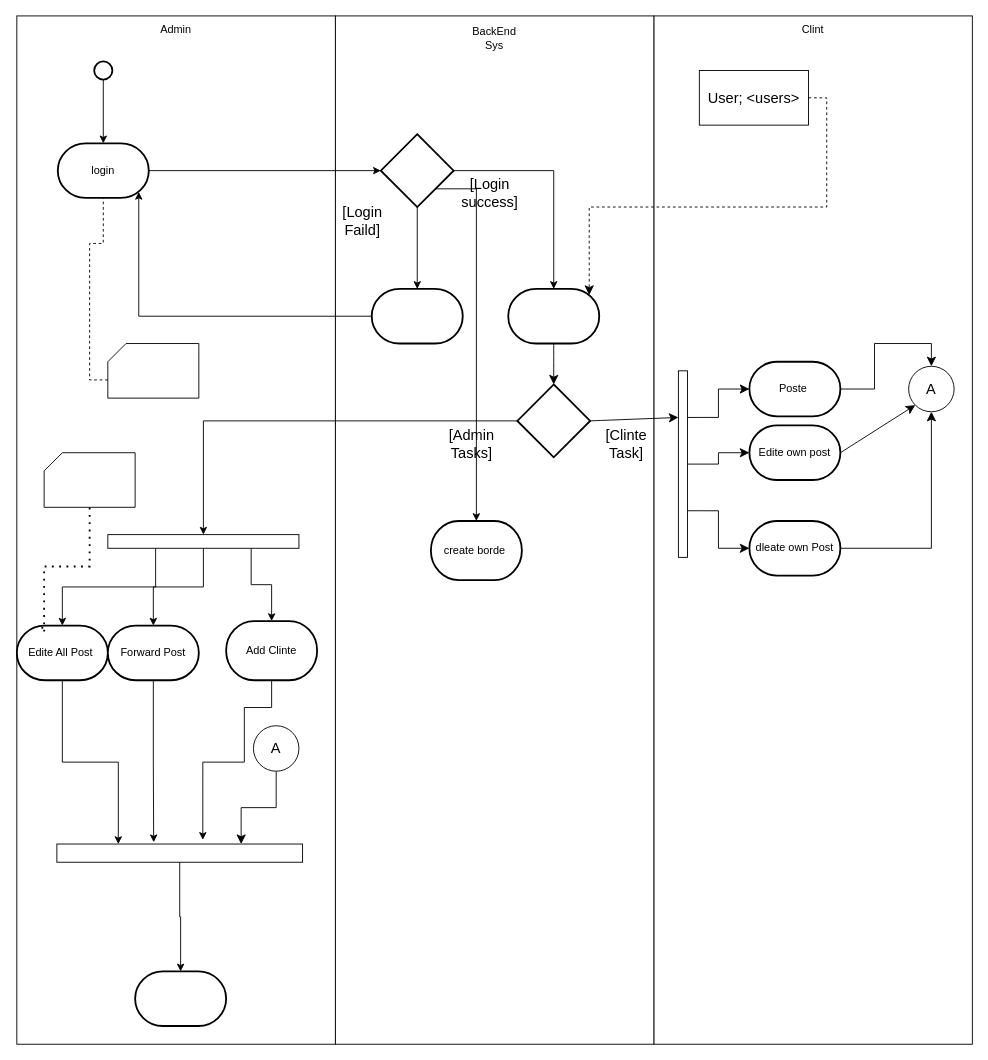
Some shapes in this 988 by 1060 pixel diagram are drawn without their labels. The shapes that lost their labels are listed below. From the top down, each one's centre as x and y in pixels, then its label:
(416,170): Is login data Valid
(416,316): login Error
(553,316): Home Page
(153,370): Login for all User
(89,479): Edite: Post, delate , change
(180,998): log out
